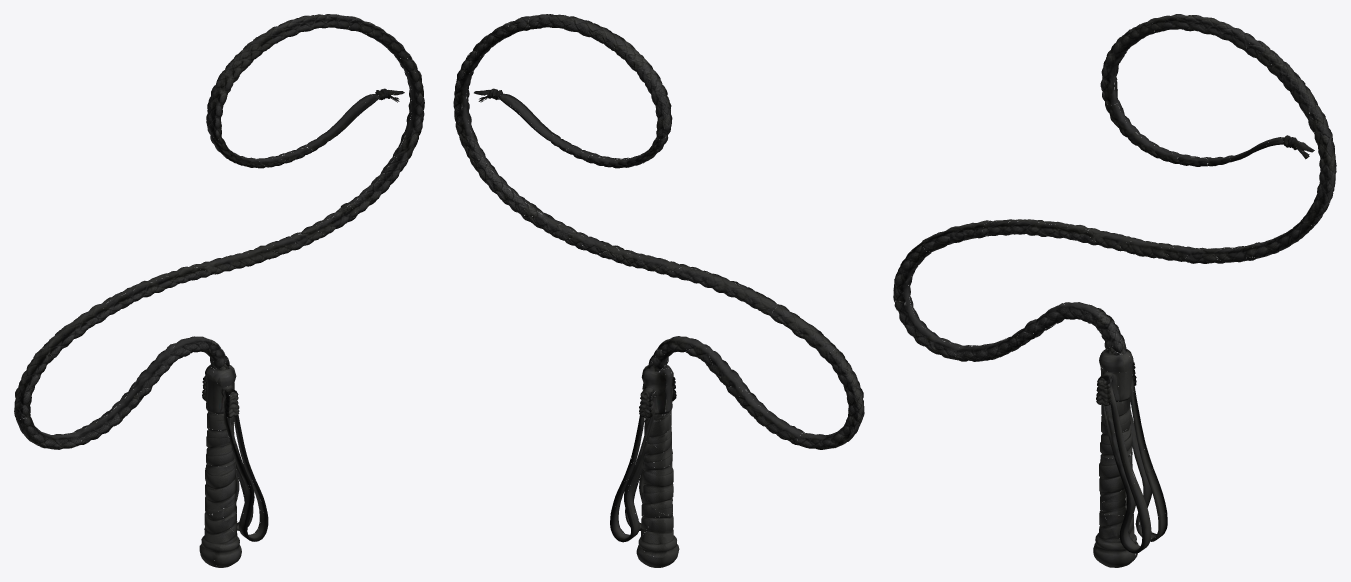
File: whip.glb
3 renders of one model, left to right at view 1: azimuth 30°, elevation 25°; view 2: azimuth 150°, elevation 25°; view 3: azimuth 330°, elevation 25°, orthographic. The views are drawn at different scales.
Visible parts, largest first — view 1: tripo_node_72a4f39e-181a-4363-9cb1-b7f8975dfcd5; view 2: tripo_node_72a4f39e-181a-4363-9cb1-b7f8975dfcd5; view 3: tripo_node_72a4f39e-181a-4363-9cb1-b7f8975dfcd5.
Boxes of the visible parts, box(x1,y1,x2,y2) form: tripo_node_72a4f39e-181a-4363-9cb1-b7f8975dfcd5: box(14, 14, 424, 567); tripo_node_72a4f39e-181a-4363-9cb1-b7f8975dfcd5: box(453, 14, 864, 567); tripo_node_72a4f39e-181a-4363-9cb1-b7f8975dfcd5: box(893, 14, 1336, 567).
Bounding box in the file's own units: 0.793 × 0.9793 × 0.0914.
1 material, 1 textured.
